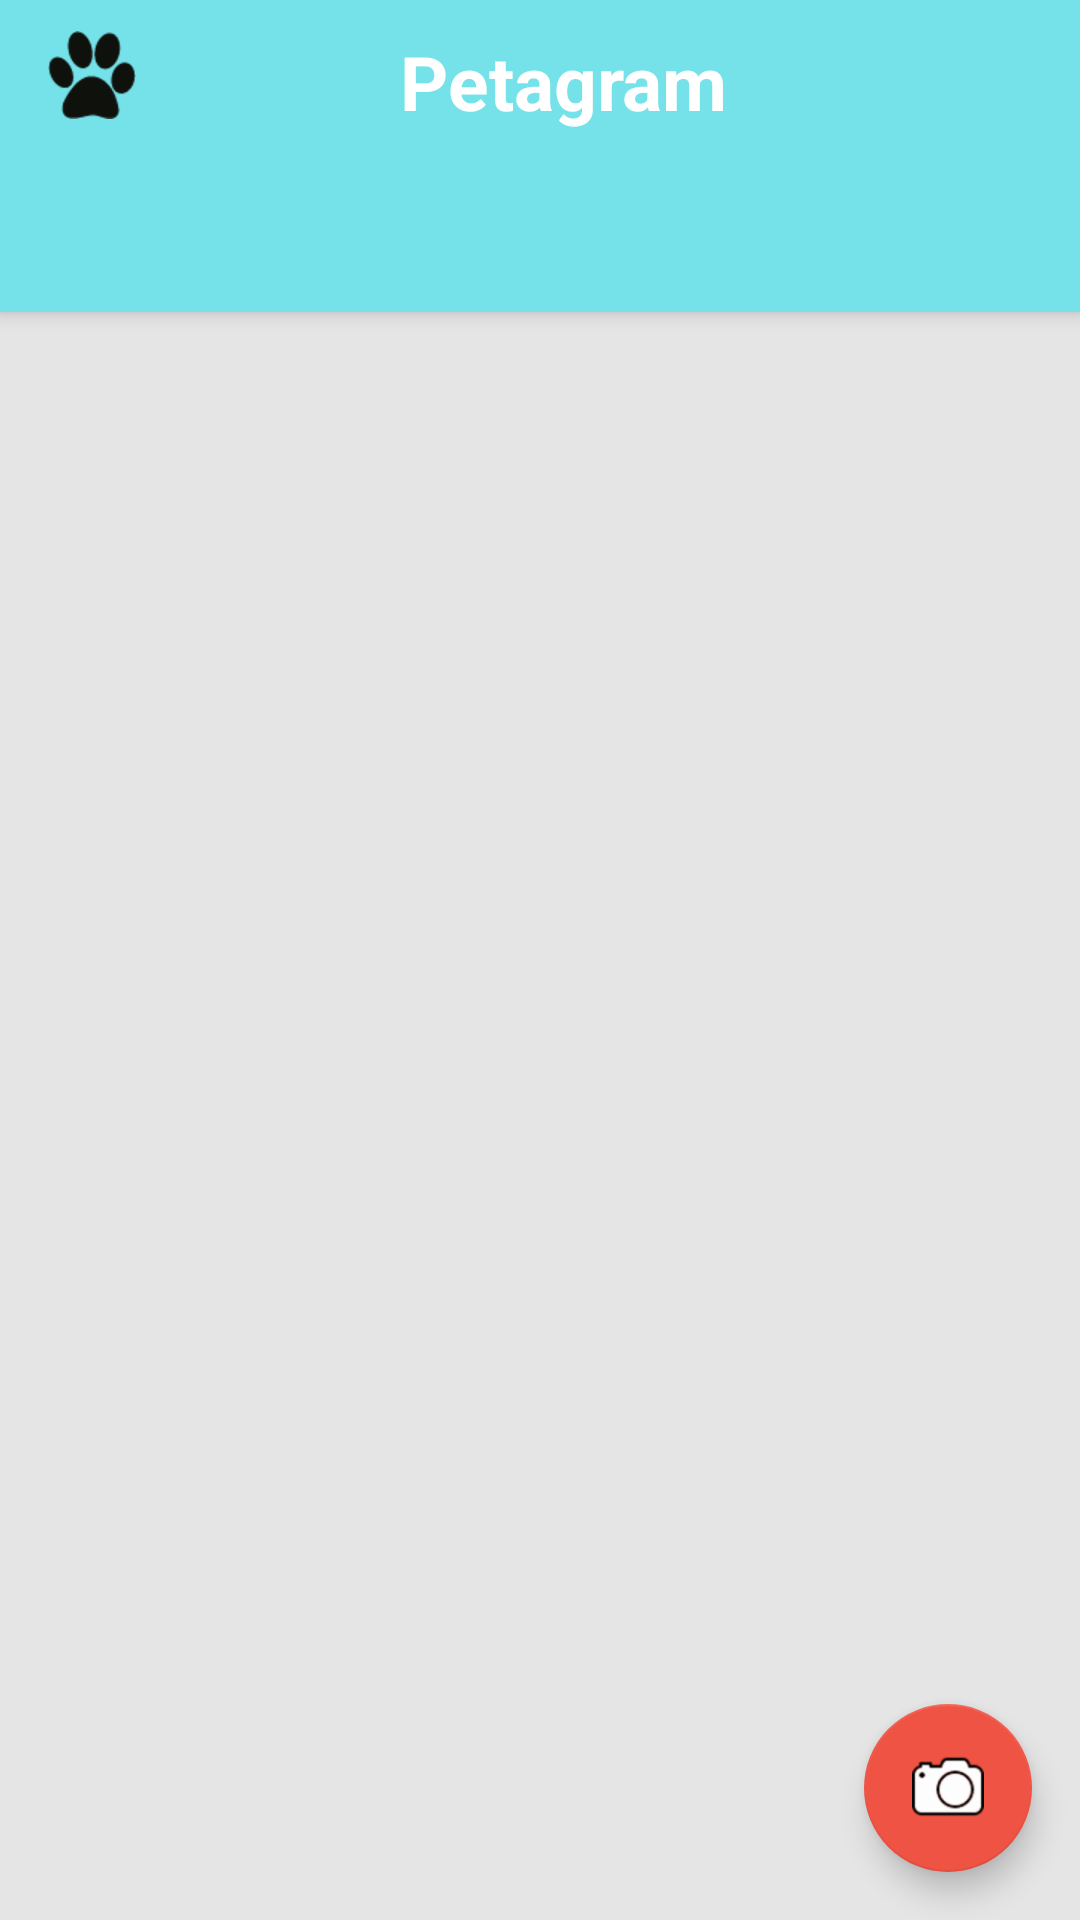

Screen size 1080px x 1920px. Icon name, then its center in pixels as (x,y):
camarados: (948,1788)
pata: (92,75)
